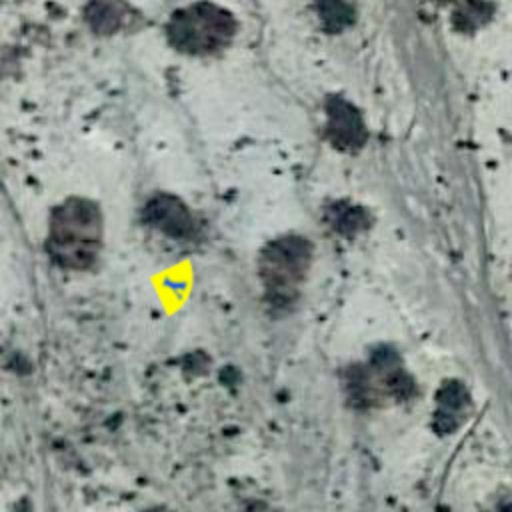quarter_circle: (136, 248, 212, 324)
